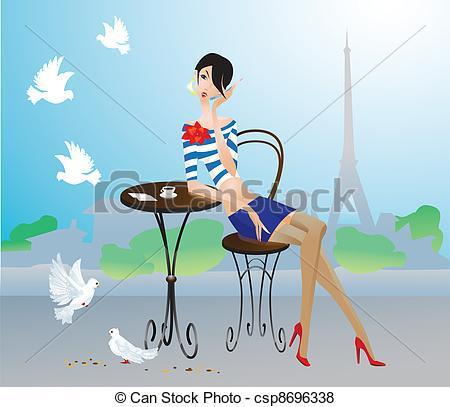bird: (45, 252, 100, 325), (24, 52, 77, 106), (50, 137, 102, 186), (103, 326, 158, 366), (95, 13, 133, 55)
chair: (218, 126, 296, 352)
diningtable: (117, 179, 223, 356)
person: (174, 49, 387, 367)
